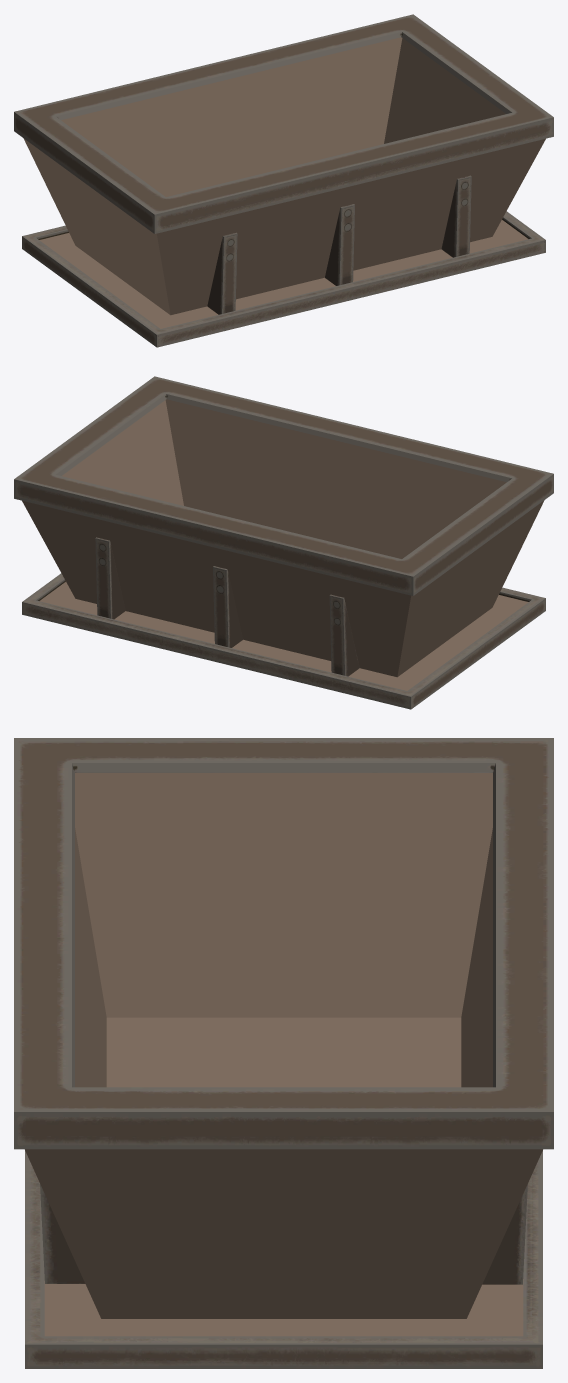
File: SM_coal_trough_01.glb
3 views of the same model, one above another, from view 1: azimuth 30°, elevation 25°; view 2: azimuth 150°, elevation 25°; view 3: azimuth 270°, elevation 25° (orthographic). The views are drawn at different scales.
Parts seen in each view (by area): view 1: SM_coal_trough_01; view 2: SM_coal_trough_01; view 3: SM_coal_trough_01.
Part boxes in pixels (x1,y1,x2,y2): SM_coal_trough_01: (14,14,553,347); SM_coal_trough_01: (14,376,553,709); SM_coal_trough_01: (14,738,553,1368).
Size of the model in its own units: 2.21 by 0.7192 by 1.35.
2 materials, 1 textured.
